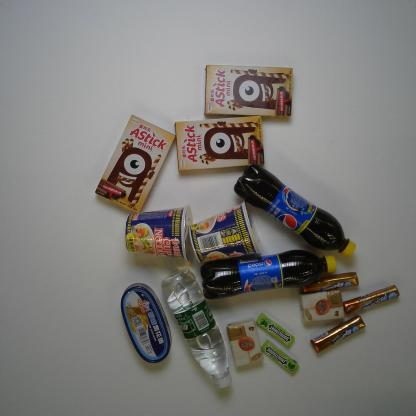Candy: (309, 315, 366, 353), (343, 284, 400, 315), (302, 272, 359, 294)
Canned Food: (120, 283, 172, 363)
Dessert: (94, 114, 177, 214), (174, 114, 265, 171), (203, 64, 293, 118)
Drink: (233, 162, 357, 260), (160, 267, 233, 390), (199, 248, 337, 300)
Gum: (261, 338, 300, 375), (256, 312, 296, 348)
Instant Noodles: (188, 198, 262, 263), (124, 204, 196, 262)
Tissue: (226, 317, 264, 368), (298, 289, 345, 323)
